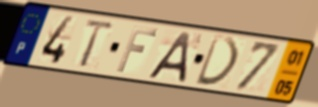4: (37, 14, 74, 66)
7: (235, 39, 284, 94)
A: (144, 31, 193, 85)
D: (193, 33, 242, 88)
F: (114, 24, 160, 74)
T: (78, 17, 118, 69)
